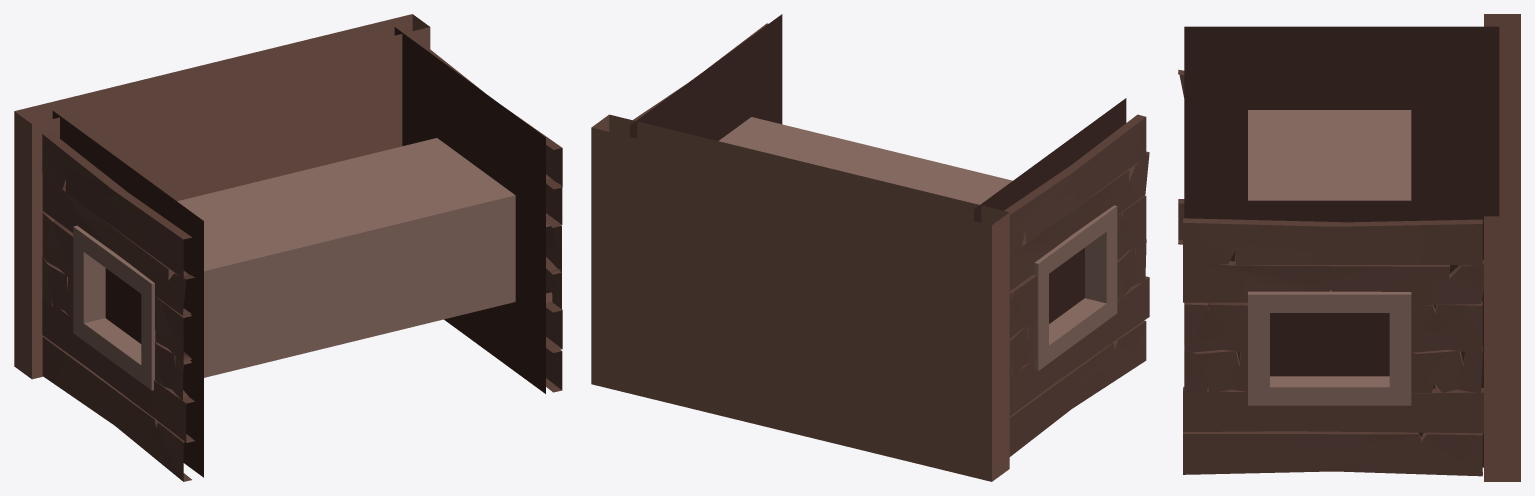
Rendered from Building_Window_005.glb.
3 renders of one model, left to right at view 1: azimuth 30°, elevation 25°; view 2: azimuth 150°, elevation 25°; view 3: azimuth 270°, elevation 25°, orthographic. The views are drawn at different scales.
Parts seen in each view (by area): view 1: Building_Window_005; view 2: Building_Window_005; view 3: Building_Window_005.
Boxes of the visible parts, left/top/right/bottom form: Building_Window_005: left=14, top=14, right=562, bottom=481; Building_Window_005: left=591, top=14, right=1149, bottom=481; Building_Window_005: left=1178, top=14, right=1520, bottom=481.
Size of the model in its own units: 7.12 by 4.39 by 5.1.
1 material, 1 textured.
